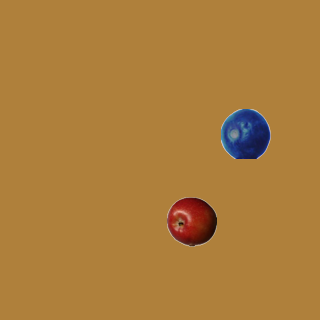Apple Braeburn: (166, 196, 216, 246)
Huckleberry: (220, 108, 270, 158)
